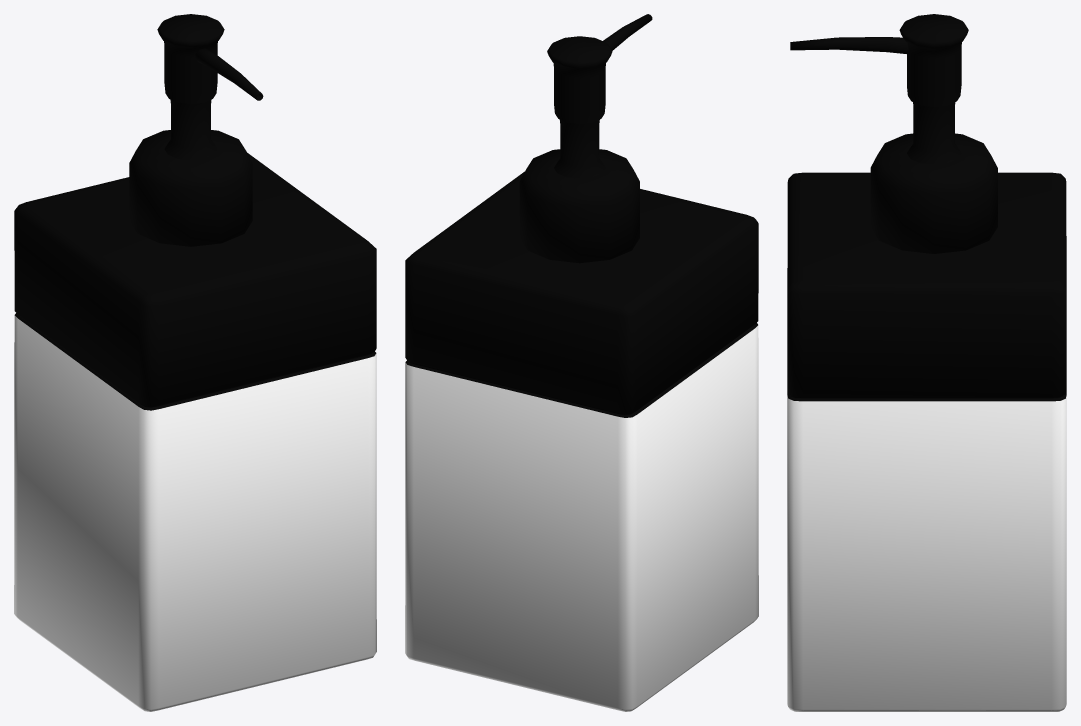
The model's file is soap_dispanser.fbx.
3 views of the same model, side by side, from view 1: azimuth 30°, elevation 25°; view 2: azimuth 150°, elevation 25°; view 3: azimuth 270°, elevation 25° (orthographic). The views are drawn at different scales.
Parts seen in each view (by area): view 1: Soap_dispenser; view 2: Soap_dispenser; view 3: Soap_dispenser.
Part boxes in pixels (x1,y1,x2,y2): Soap_dispenser: (14, 14, 376, 711); Soap_dispenser: (405, 14, 758, 711); Soap_dispenser: (787, 14, 1066, 711).
Bounding box in the file's own units: 6.16 × 15.29 × 6.16.
1 material, 1 textured.
